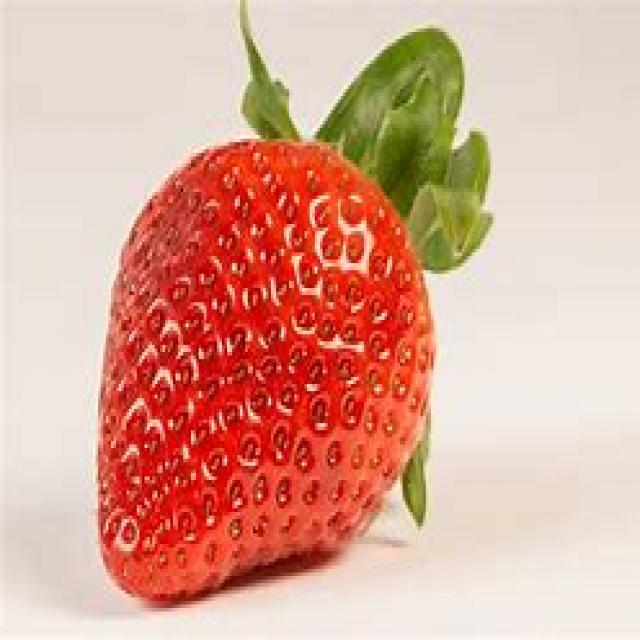Berries strawberries/blueberries: (90, 111, 438, 604)
